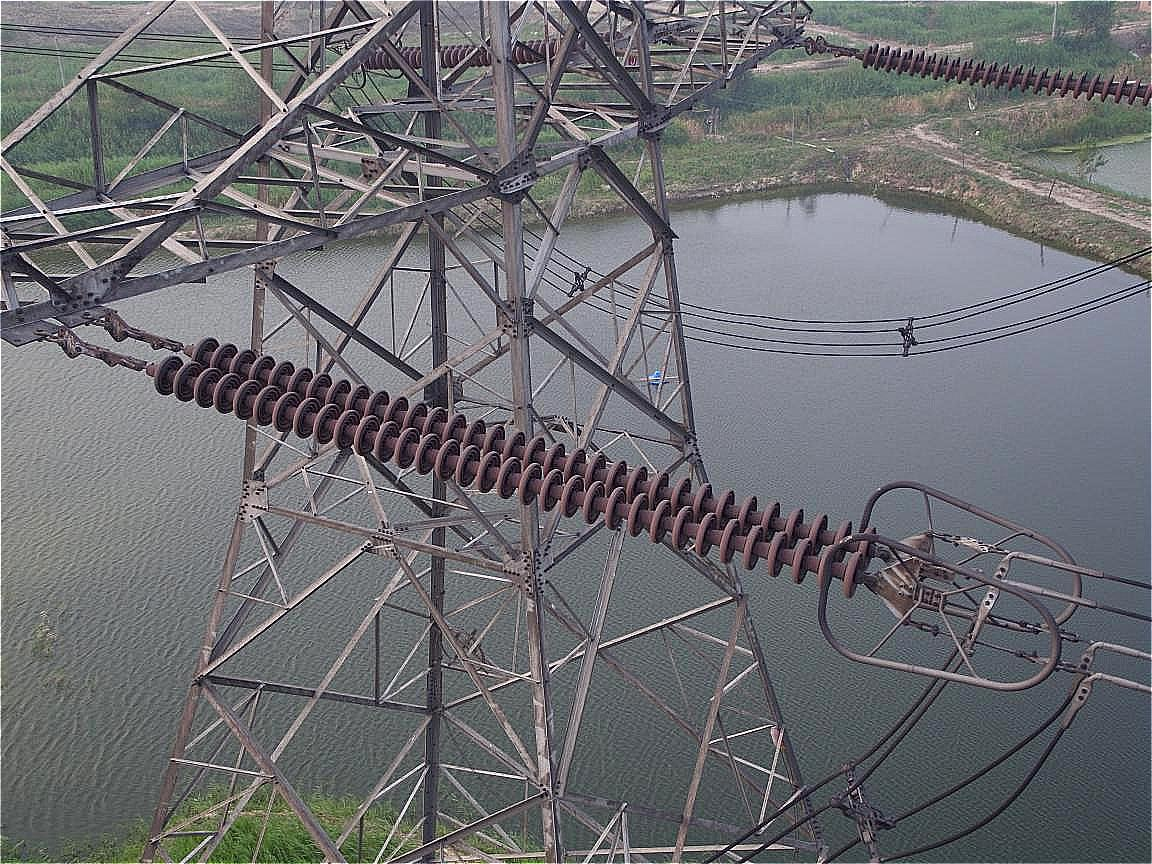insultor1: (128, 337, 874, 597), (860, 34, 1152, 126)
